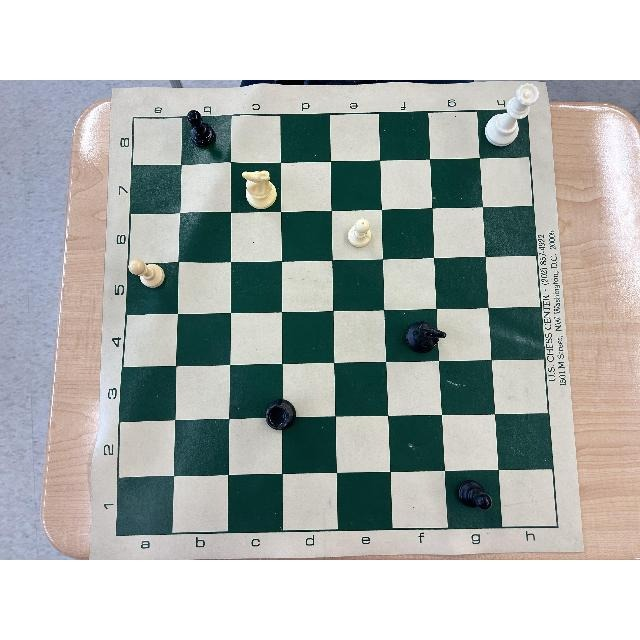black-knight: (404, 319, 447, 354)
black-pawn: (186, 110, 218, 148), (457, 477, 493, 510)
black-rook: (264, 397, 298, 431)
white-knight: (242, 169, 279, 211)
white-pawn: (127, 258, 165, 289), (347, 218, 373, 248)
white-queen: (485, 82, 541, 147)
